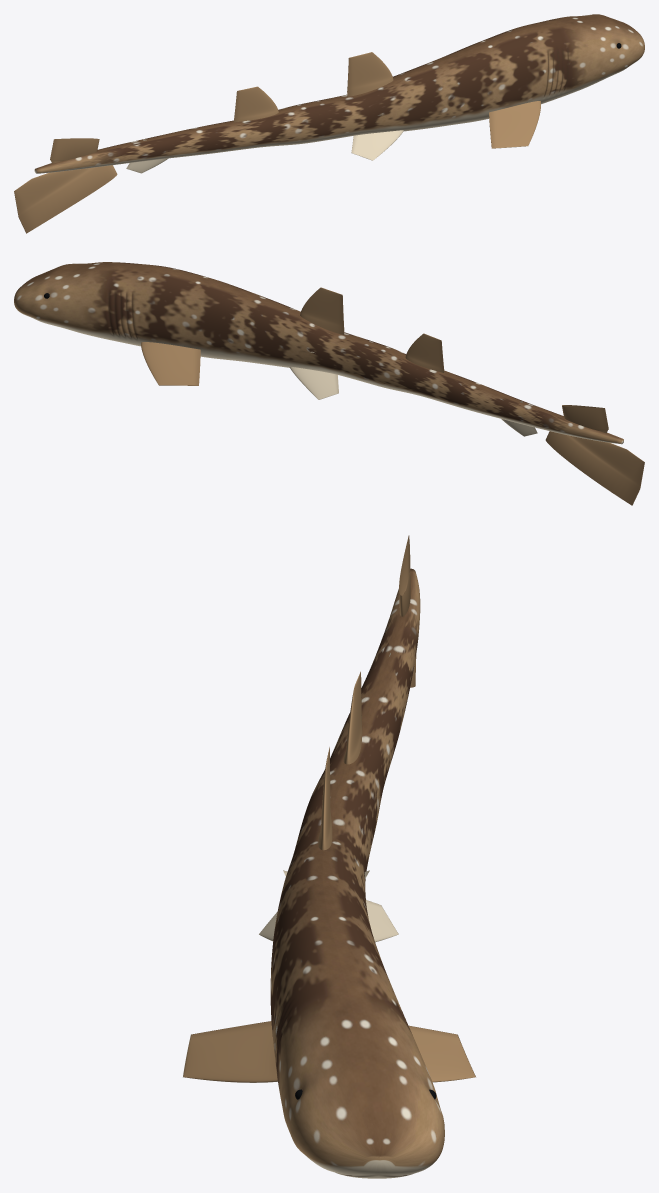
Rendered from whitespotted_bambooshark.glb.
3 views of the same model, one above another, from view 1: azimuth 30°, elevation 25°; view 2: azimuth 150°, elevation 25°; view 3: azimuth 270°, elevation 25° (orthographic). The views are drawn at different scales.
Parts seen in each view (by area): view 1: WhitespottedBambooShark_Body, WhitespottedBambooShark_Fins; view 2: WhitespottedBambooShark_Body, WhitespottedBambooShark_Fins; view 3: WhitespottedBambooShark_Body, WhitespottedBambooShark_Fins.
Boxes of the visible parts, box(x1,y1,x2,y2) form: WhitespottedBambooShark_Body: box(34, 14, 644, 173); WhitespottedBambooShark_Fins: box(14, 52, 540, 233); WhitespottedBambooShark_Body: box(14, 262, 623, 444); WhitespottedBambooShark_Fins: box(141, 287, 644, 505); WhitespottedBambooShark_Body: box(270, 568, 444, 1178); WhitespottedBambooShark_Fins: box(183, 535, 475, 1082).
Bounding box in the file's own units: 0.7 × 0.1281 × 0.1442.
Materials: 3 (1 with a texture image).
